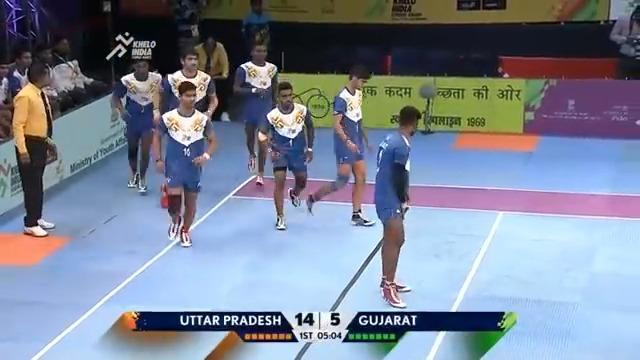Player: (305, 63, 376, 226), (152, 80, 217, 247), (373, 105, 422, 308), (256, 81, 315, 230), (231, 35, 279, 185), (110, 58, 162, 193), (158, 47, 218, 122)
referee: (11, 60, 58, 236), (608, 3, 639, 79), (240, 0, 273, 62), (170, 0, 203, 57)
